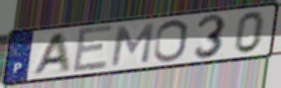0: (232, 9, 267, 56)
3: (193, 12, 229, 61)
A: (29, 30, 73, 78)
E: (71, 23, 115, 75)
M: (108, 21, 156, 68)
O: (152, 18, 190, 64)
